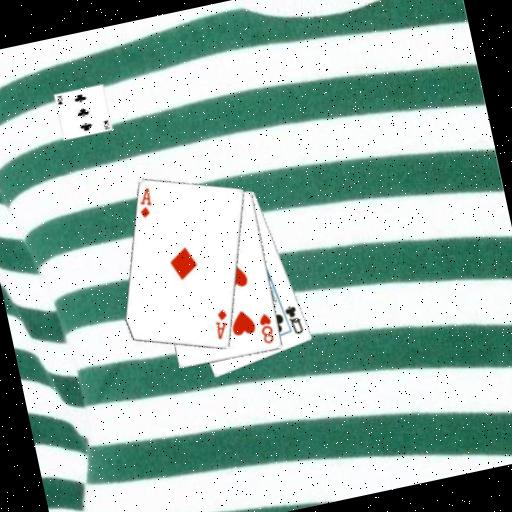8H: (255, 310, 277, 346)
AD: (208, 305, 233, 342), (131, 183, 156, 220)
QC: (281, 300, 306, 337)
